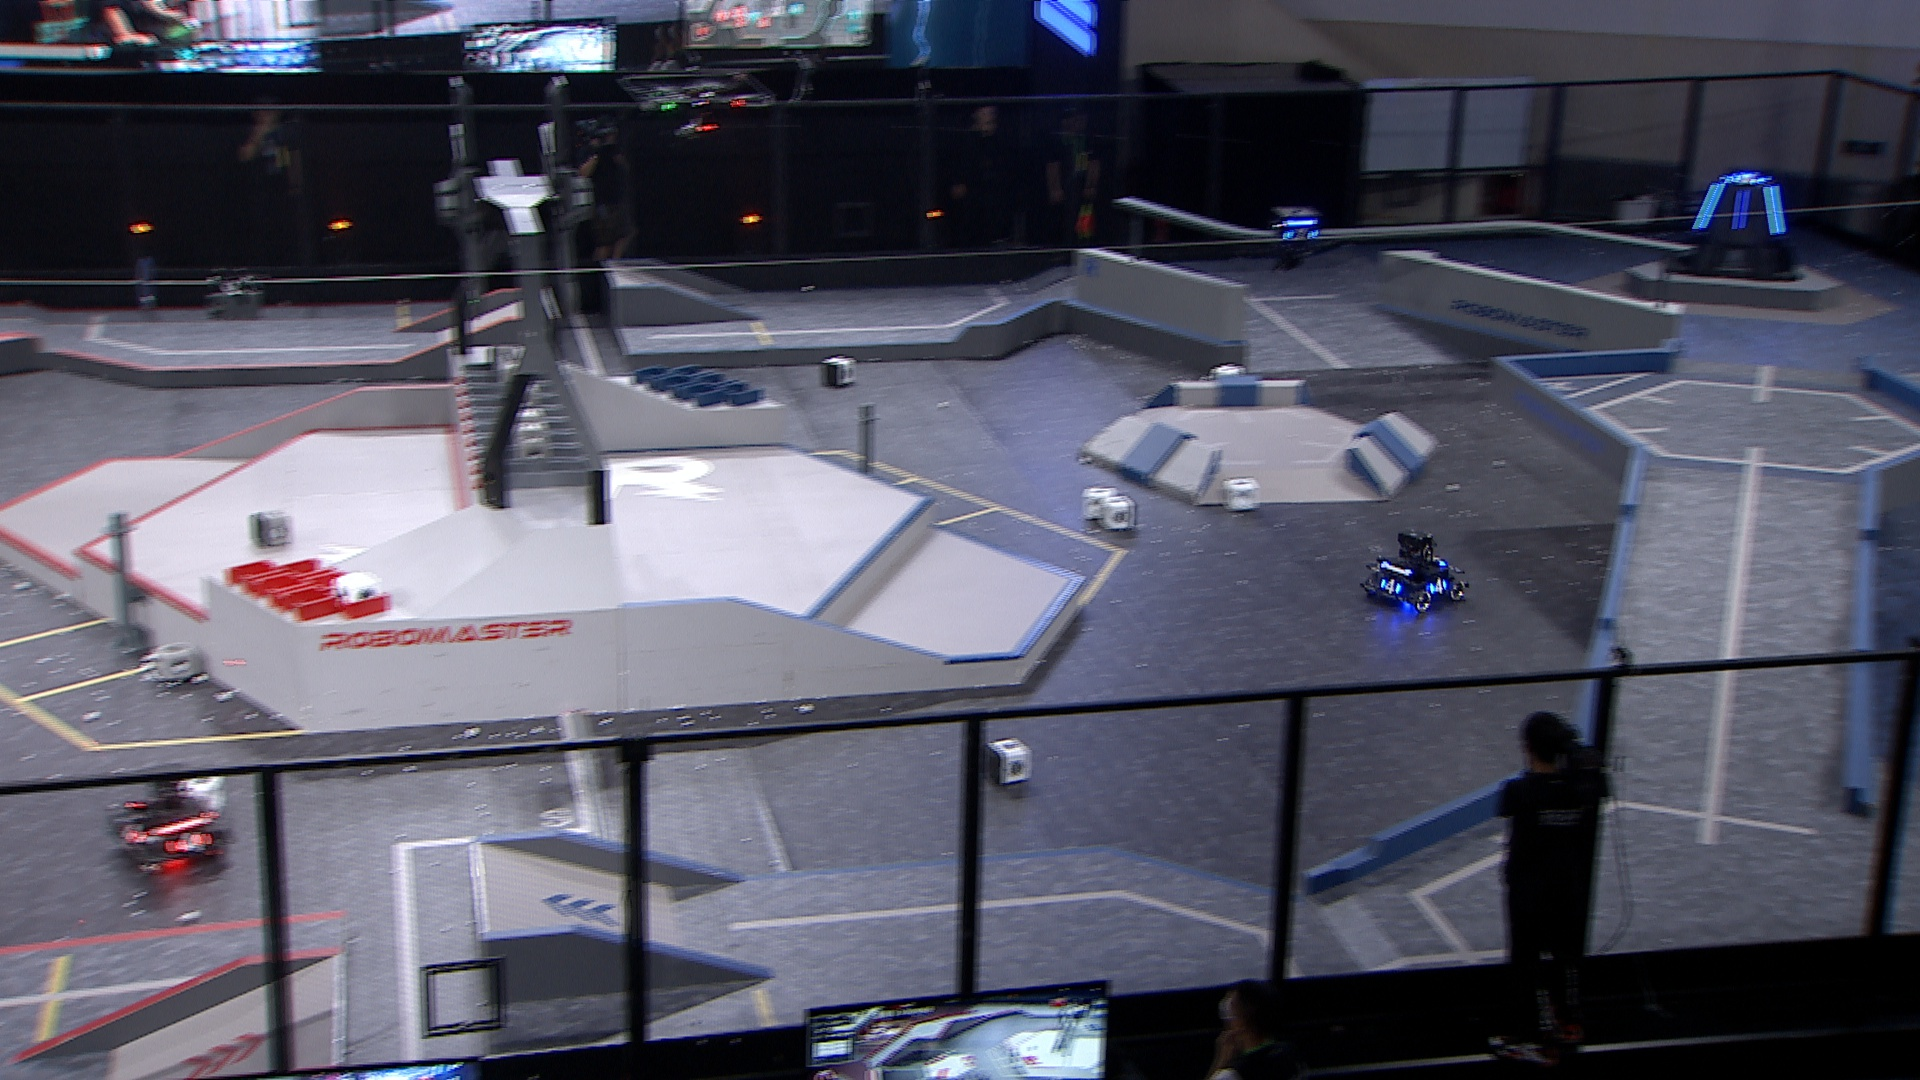armor: (1691, 182, 1727, 229), (1759, 186, 1788, 237), (166, 827, 211, 860), (1731, 190, 1753, 232), (119, 820, 145, 851), (1280, 225, 1321, 243), (1722, 173, 1768, 187), (1378, 576, 1403, 595), (1429, 576, 1449, 597)
base: (1664, 171, 1807, 285)
car: (98, 770, 237, 880), (1353, 526, 1474, 618)
watcher: (1271, 204, 1323, 270)
